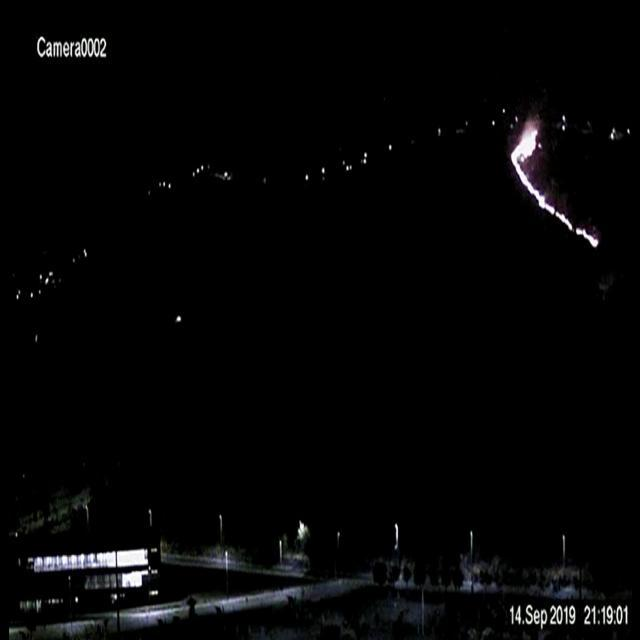Fire: (506, 113, 598, 250)
